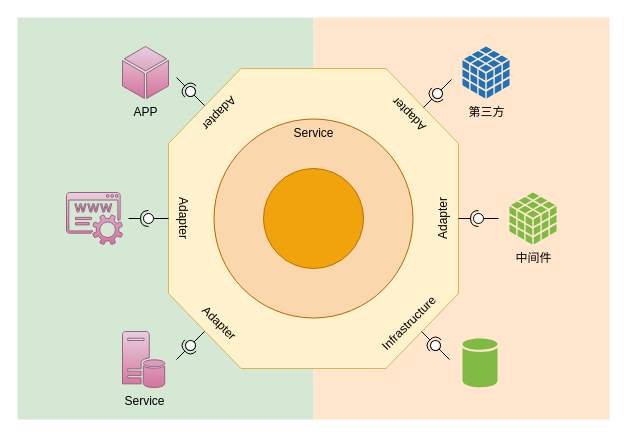
This 626x436 diagram has some shape labels left out. Here are the shapes that lost their labels. From the top down, the box of each, then its label:
(66, 192, 122, 244): Web
(262, 168, 364, 268): Domain
(462, 338, 497, 387): DB
